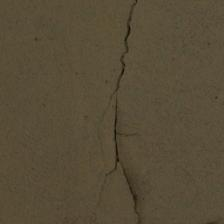Crack: (0, 0, 112, 98), (39, 89, 200, 152)
